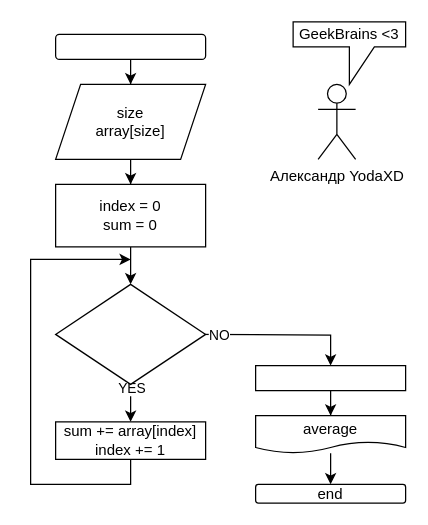
Some shapes in this 428 by 525 pixel diagram are drawn without their labels. Each missing label, with the box of its shape:
average = sum / size: (254, 364, 406, 391)
index < size: (54, 283, 206, 384)
start: (54, 33, 206, 59)
